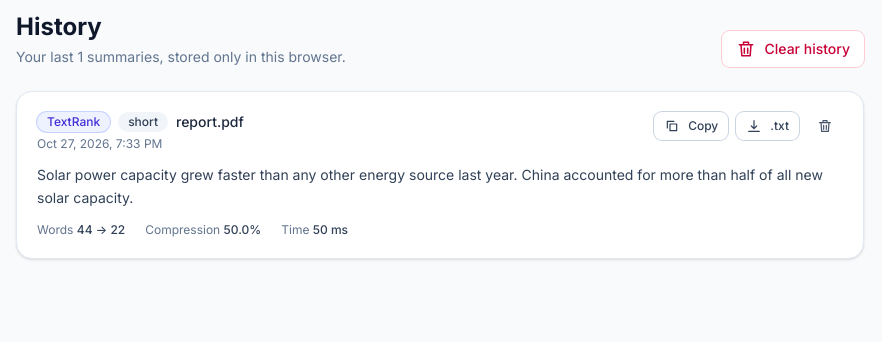
Test: HistoryPage › lists saved summaries and deletes them
Expected: the text "report.pdf" is shown, [176, 112, 244, 132]
Expected: the text "44 → 22" is shown, [77, 222, 125, 236]
Click the button named "Delete from history".
click(825, 126)  # box [807, 112, 843, 140]
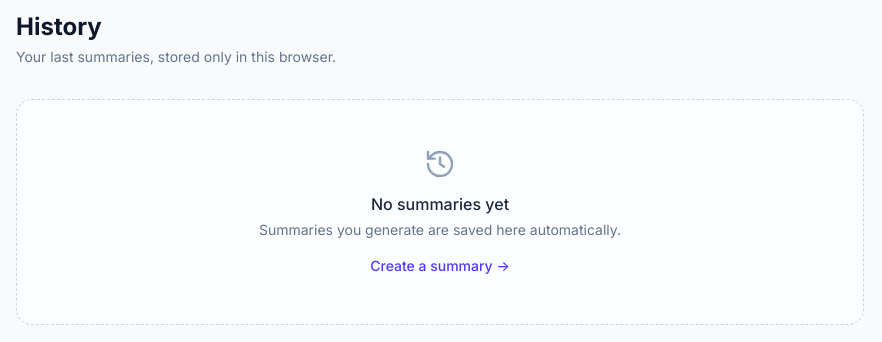
Now the text "No summaries yet" is shown, box [371, 192, 509, 216]
